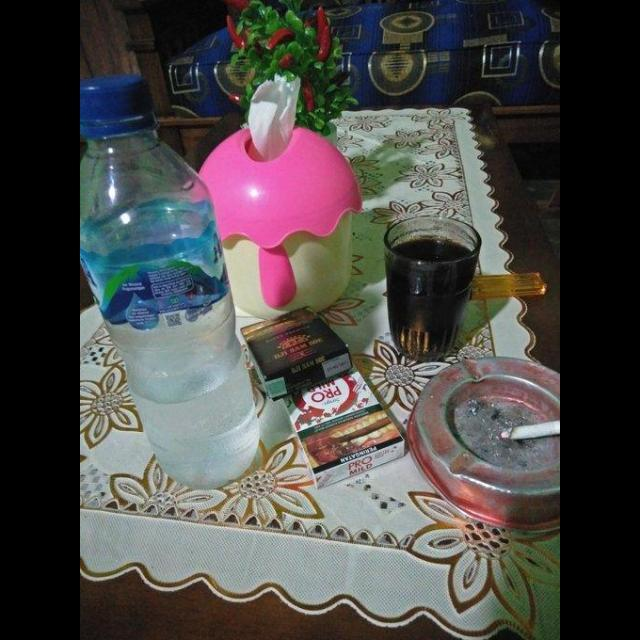rokok: (502, 416, 560, 440)
